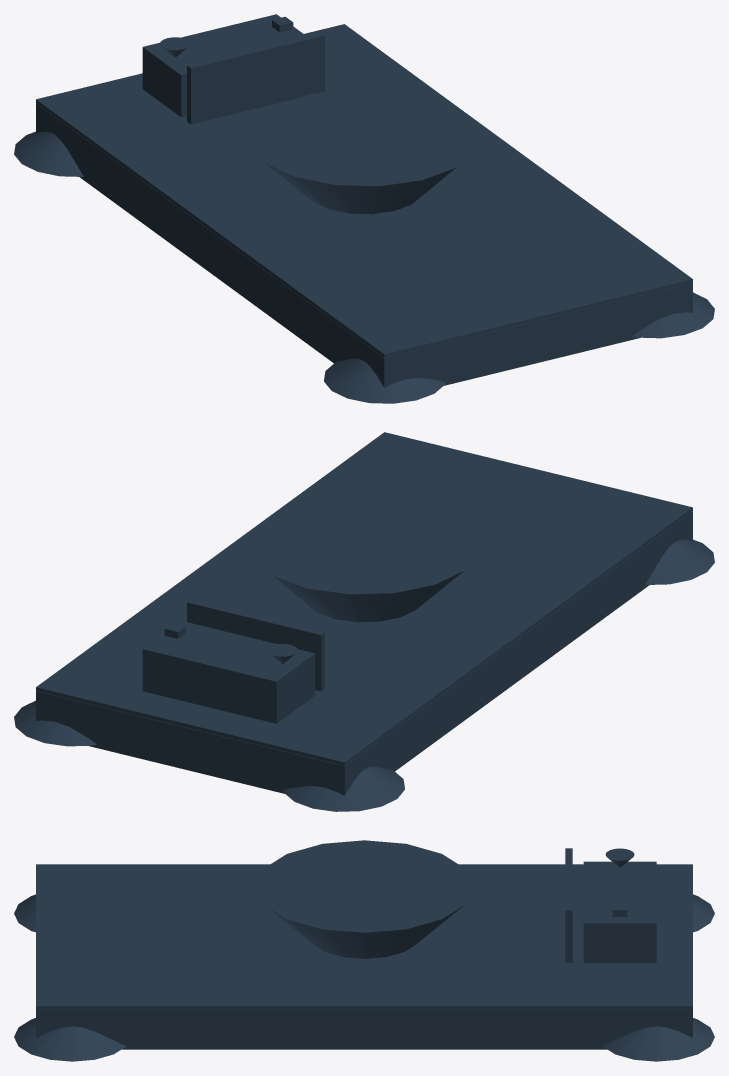
File: droneship.glb
3 renders of one model, top to bottom at view 1: azimuth 30°, elevation 25°; view 2: azimuth 150°, elevation 25°; view 3: azimuth 270°, elevation 25°, orthographic. The views are drawn at different scales.
Parts seen in each view (by area): view 1: landingDeck, bargeHull, landingCircle, blastWall, equipmentContainer, thruster3, thruster1, thruster4; view 2: landingDeck, bargeHull, landingCircle, equipmentContainer, blastWall, thruster1, thruster3, thruster2; view 3: landingDeck, bargeHull, landingCircle, equipmentContainer, thruster2, thruster4, blastWall, thruster1, thruster3, starlinkDish.
Boxes of the visible parts, <box> form: landingDeck: <box>36,24,692,357</box>; bargeHull: <box>36,103,692,387</box>; landingCircle: <box>249,89,479,214</box>; blastWall: <box>187,33,324,124</box>; equipmentContainer: <box>142,14,306,117</box>; thruster3: <box>324,358,445,403</box>; thruster1: <box>14,131,83,176</box>; thruster4: <box>632,292,714,338</box>; landingDeck: <box>36,432,692,765</box>; bargeHull: <box>36,511,692,795</box>; landingCircle: <box>249,497,479,622</box>; equipmentContainer: <box>142,620,315,723</box>; blastWall: <box>187,599,324,690</box>; thruster1: <box>283,766,404,811</box>; thruster3: <box>645,539,714,584</box>; thruster2: <box>14,700,96,746</box>; landingDeck: <box>36,864,692,1009</box>; bargeHull: <box>36,1009,692,1049</box>; landingCircle: <box>255,840,473,958</box>; equipmentContainer: <box>583,861,656,962</box>; thruster2: <box>602,1018,714,1061</box>; thruster4: <box>14,1018,126,1061</box>; blastWall: <box>565,848,572,962</box>; thruster1: <box>693,894,714,932</box>; thruster3: <box>14,894,35,932</box>; starlinkDish: <box>605,848,634,867</box>.
Size of the model in its own units: 56 by 16.1 by 96.
